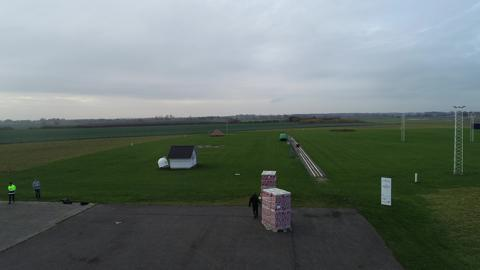RockwoolPallet: (262, 168, 278, 194)
